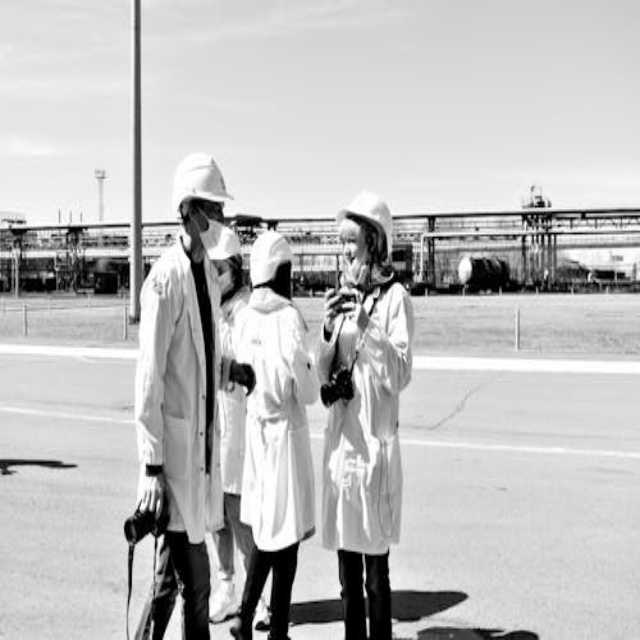Mascara: (190, 213, 230, 258), (340, 245, 369, 287), (272, 261, 293, 299), (215, 265, 236, 297)
Sin_gafas: (339, 234, 361, 252)
Sin_guantes: (137, 471, 169, 538), (319, 286, 342, 332), (344, 302, 367, 336)
